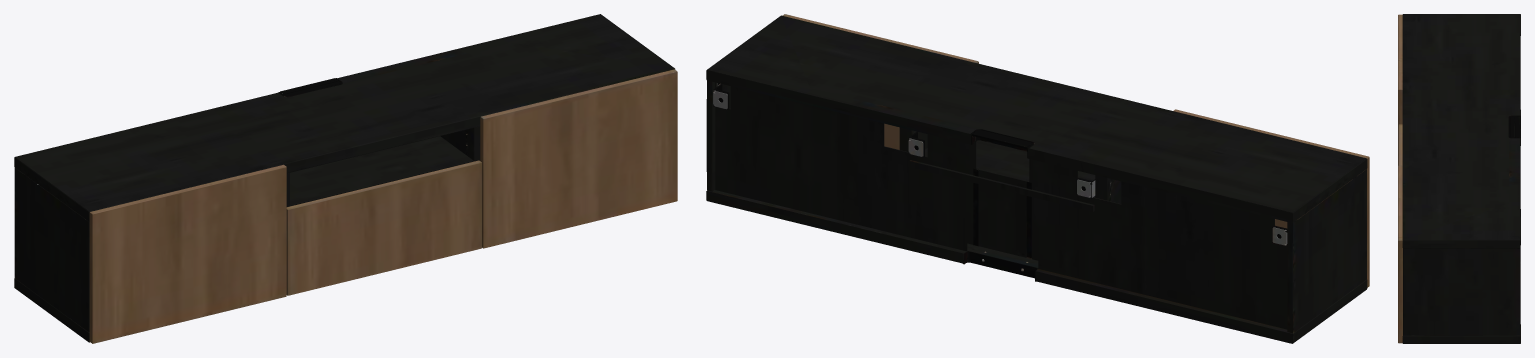
3 renders of one model, left to right at view 1: azimuth 30°, elevation 25°; view 2: azimuth 150°, elevation 25°; view 3: azimuth 270°, elevation 25°, orthographic. The views are drawn at different scales.
Visible parts, largest first — view 1: 89612148_TV_bench.008; view 2: 89612148_TV_bench.008; view 3: 89612148_TV_bench.008.
Boxes of the visible parts, left/top/right/bottom form: 89612148_TV_bench.008: left=14, top=14, right=677, bottom=343; 89612148_TV_bench.008: left=706, top=14, right=1369, bottom=343; 89612148_TV_bench.008: left=1398, top=14, right=1520, bottom=343.
Size of the model in its own units: 1.8 by 0.3875 by 0.4117.
Materials: 1 (1 with a texture image).
